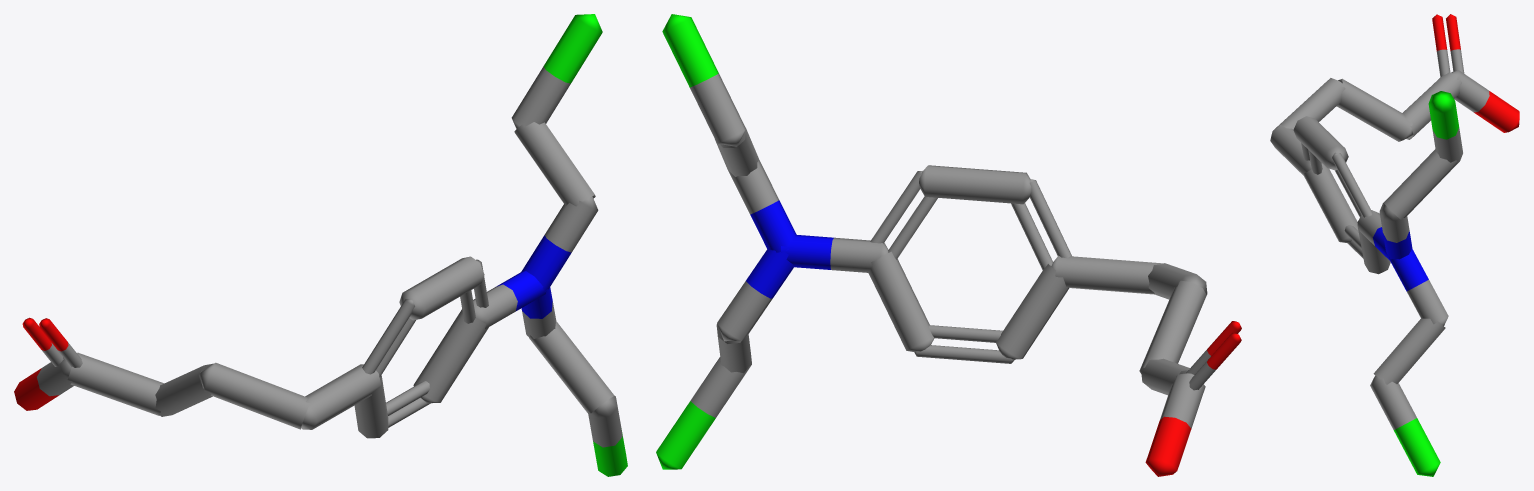
Rendered from chloramb.glb.
3 renders of one model, left to right at view 1: azimuth 30°, elevation 25°; view 2: azimuth 150°, elevation 25°; view 3: azimuth 270°, elevation 25°, orthographic. The views are drawn at different scales.
Visible parts, largest first — view 1: node-geom5, node-geom2, node-geom14, node-geom4; view 2: node-geom5, node-geom2, node-geom14, node-geom4; view 3: node-geom5, node-geom2, node-geom4, node-geom14.
Part boxes in pixels (bbox=[...]): node-geom5: bbox=[37, 66, 622, 447]; node-geom2: bbox=[543, 14, 627, 476]; node-geom14: bbox=[496, 235, 571, 318]; node-geom4: bbox=[14, 317, 68, 410]; node-geom5: bbox=[690, 73, 1215, 428]; node-geom2: bbox=[656, 14, 718, 469]; node-geom14: bbox=[746, 200, 833, 298]; node-geom4: bbox=[1145, 321, 1241, 476]; node-geom5: bbox=[1270, 49, 1489, 429]; node-geom2: bbox=[1394, 91, 1458, 476]; node-geom4: bbox=[1432, 14, 1519, 132]; node-geom14: bbox=[1372, 227, 1428, 291].
Bounding box in the file's own units: 10.42 × 7.7 × 4.65.
